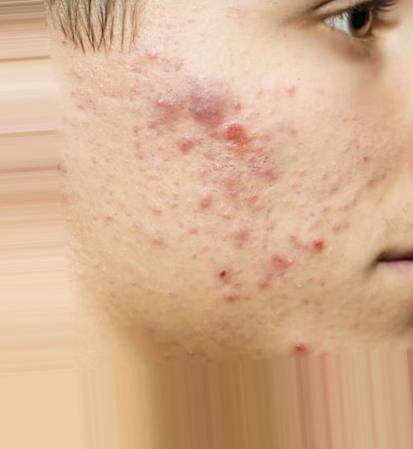Acne: (120, 48, 347, 358)
